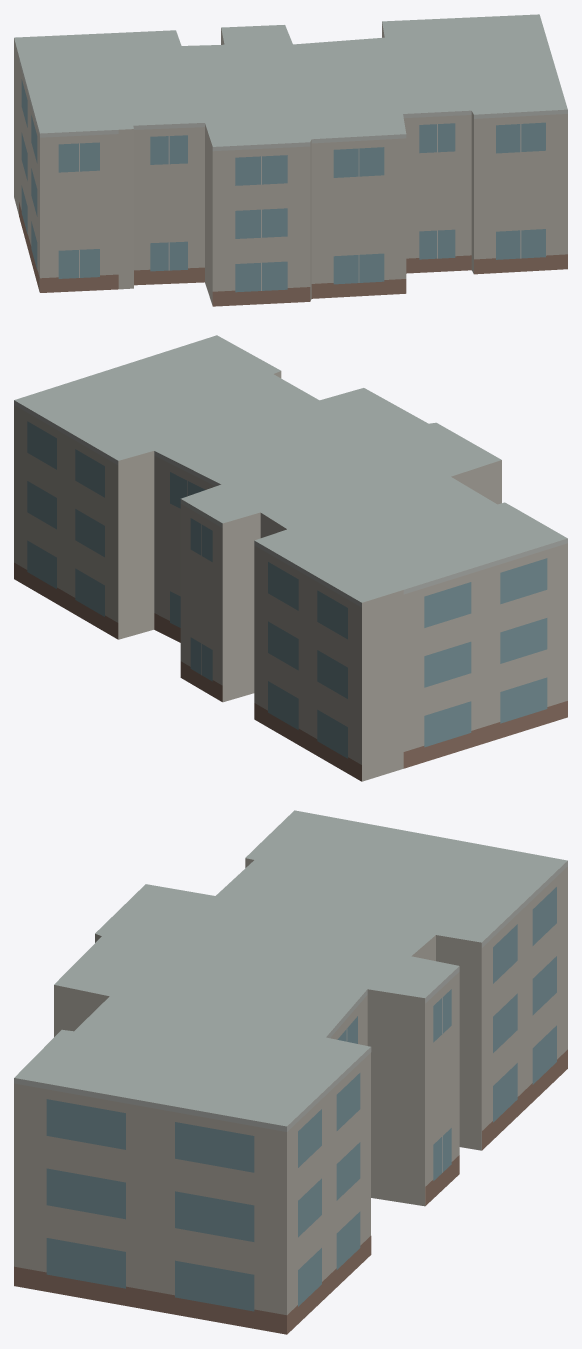
The model's file is survey-upis-32948046.glb.
3 views of the same model, one above another, from view 1: azimuth 30°, elevation 25°; view 2: azimuth 150°, elevation 25°; view 3: azimuth 270°, elevation 25° (orthographic). The views are drawn at different scales.
Visible parts, largest first — view 1: survey-upis-32948046.tmp; view 2: survey-upis-32948046.tmp; view 3: survey-upis-32948046.tmp.
Boxes of the visible parts, x1=… form: survey-upis-32948046.tmp: x1=14, y1=14, x2=567, y2=306; survey-upis-32948046.tmp: x1=14, y1=335, x2=567, y2=781; survey-upis-32948046.tmp: x1=14, y1=810, x2=567, y2=1334.
Size of the model in its own units: 29.82 by 9.15 by 22.08.
